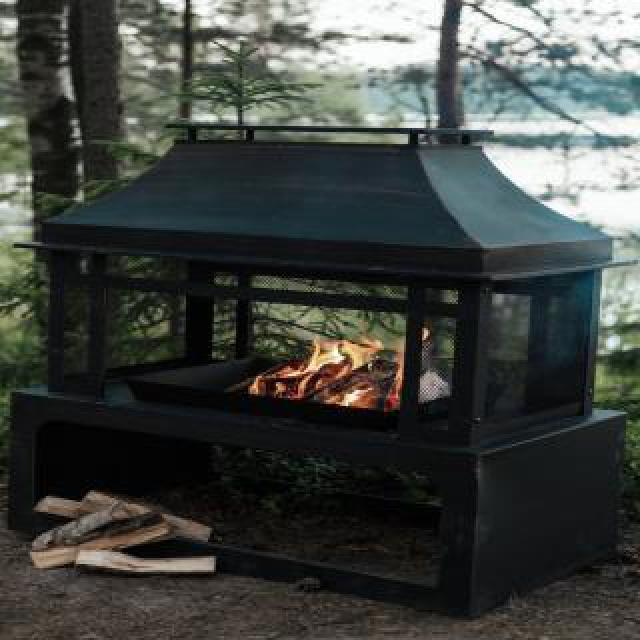Fire: (240, 328, 440, 416)
